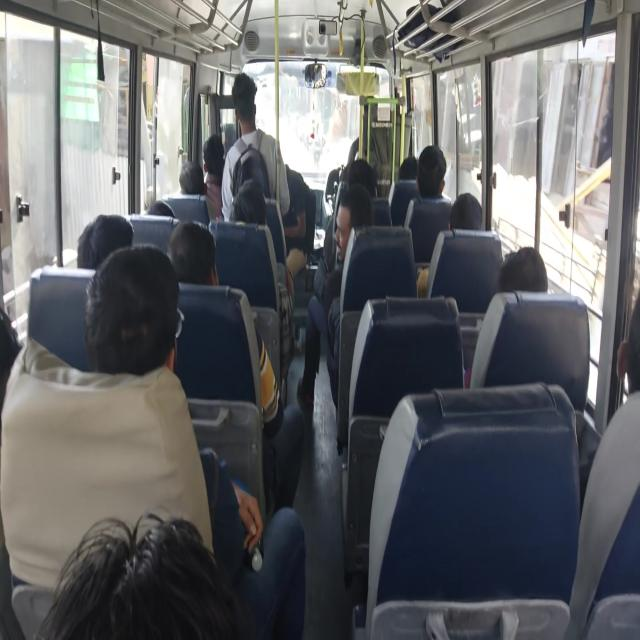person: (29, 473, 228, 640), (592, 279, 640, 425), (273, 153, 320, 280), (88, 209, 160, 275), (0, 293, 34, 431), (101, 253, 149, 336), (180, 239, 232, 290), (417, 150, 457, 216), (454, 197, 502, 250), (223, 182, 269, 234), (508, 245, 537, 306), (340, 204, 380, 244), (391, 151, 422, 190), (236, 76, 262, 122), (182, 160, 208, 198), (207, 132, 234, 166), (351, 165, 381, 195), (243, 166, 265, 202), (147, 202, 174, 228), (334, 172, 358, 200)
